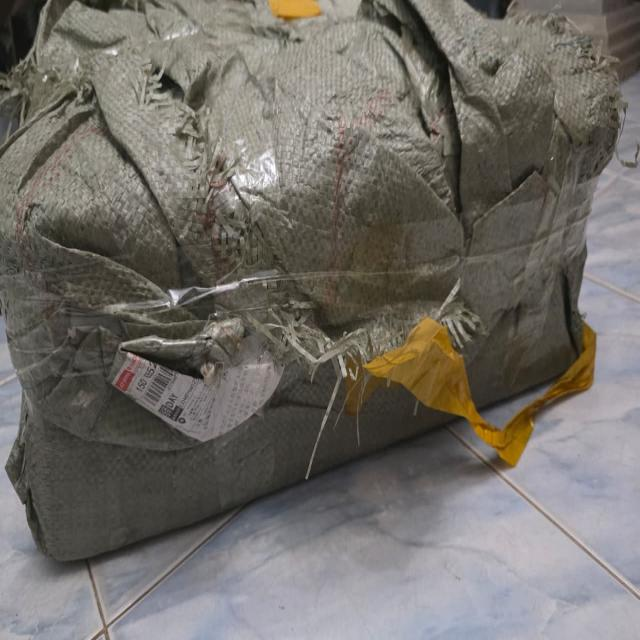export_mark_label: (111, 352, 286, 442)
